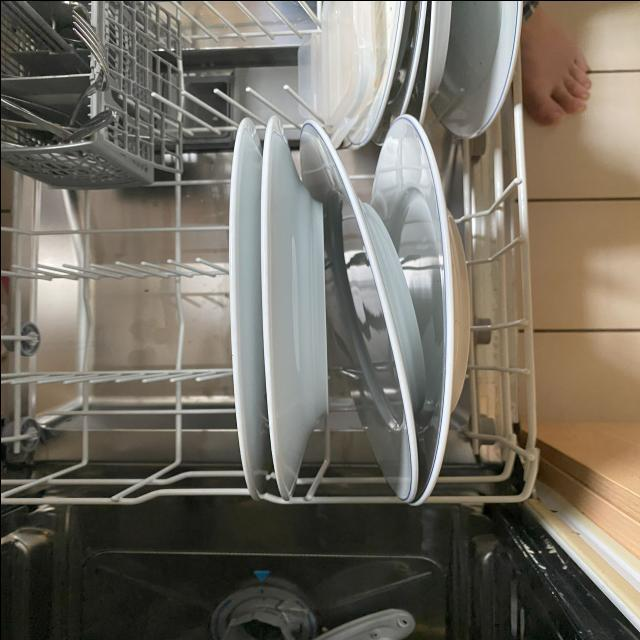clutery_bin: (6, 0, 105, 147)
empty_slot: (11, 173, 241, 476), (148, 5, 324, 116)
